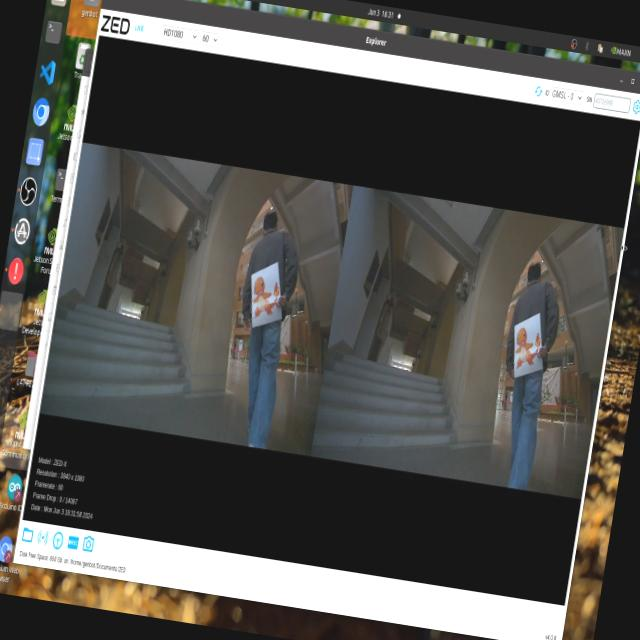red: (509, 306, 552, 384), (238, 266, 290, 328)
